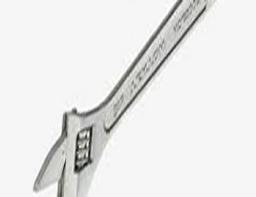Wrench: (27, 1, 209, 197)
